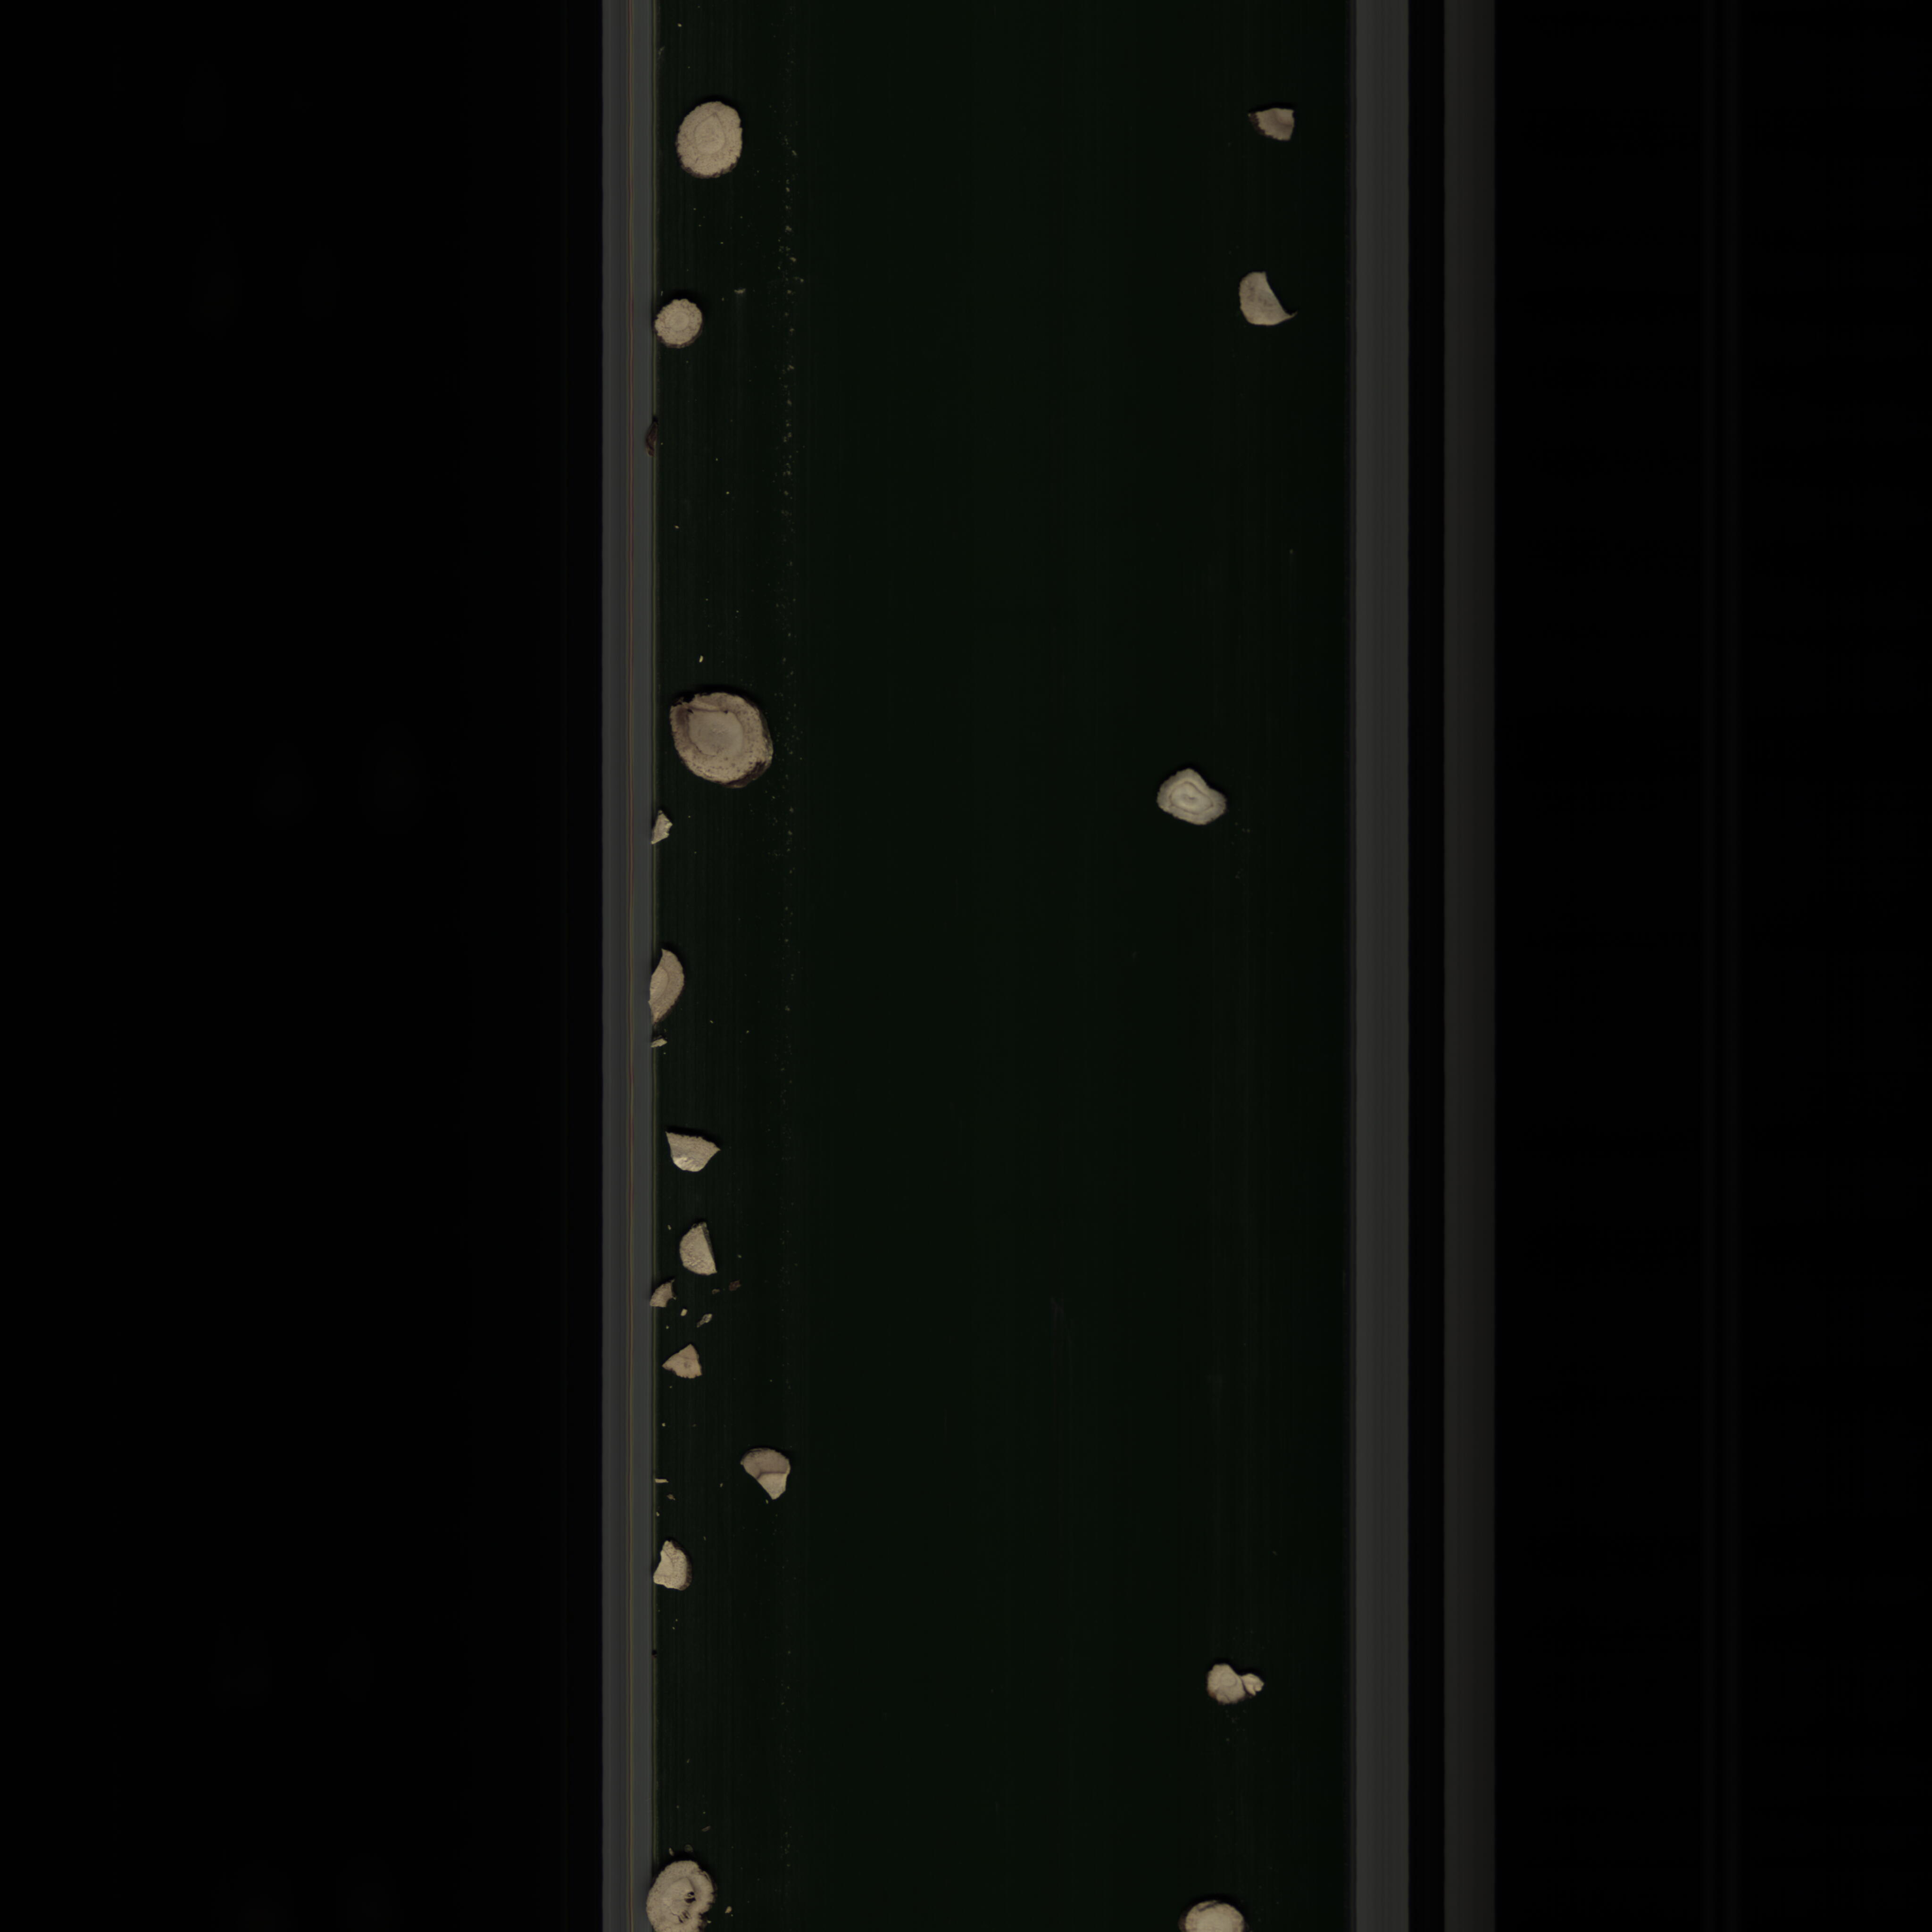debris: (1196, 1658, 1293, 1714), (642, 945, 695, 1040), (1224, 267, 1300, 333), (672, 1217, 727, 1297), (1238, 97, 1309, 156), (734, 1445, 793, 1511), (663, 1122, 725, 1182), (658, 1336, 717, 1396), (655, 1530, 694, 1598), (648, 809, 681, 860)
distortion: (1139, 763, 1235, 828)
